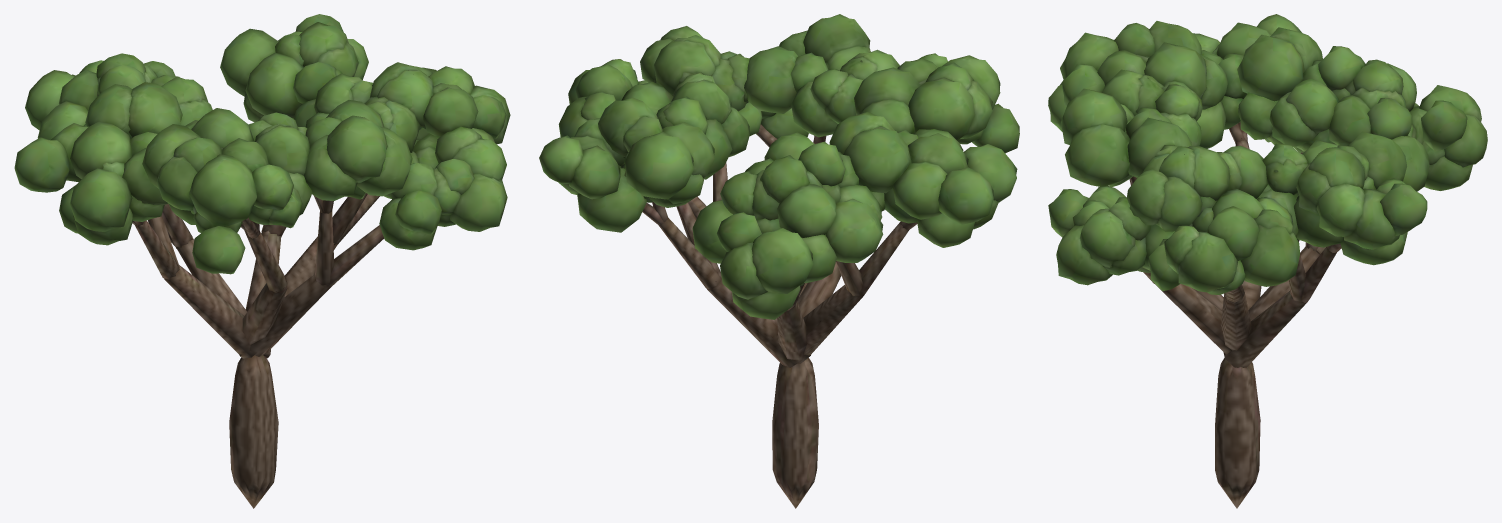
Rendered from oak.glb.
3 views of the same model, side by side, from view 1: azimuth 30°, elevation 25°; view 2: azimuth 150°, elevation 25°; view 3: azimuth 270°, elevation 25° (orthographic).
Parts seen in each view (by area): view 1: oak; view 2: oak; view 3: oak.
Part boxes in pixels (left/top/right/bottom): oak: left=14, top=14, right=510, bottom=508; oak: left=539, top=14, right=1019, bottom=508; oak: left=1048, top=14, right=1487, bottom=508.
Size of the model in its own units: 8.31 by 7.58 by 6.99.
Materials: 2 (2 with a texture image).
